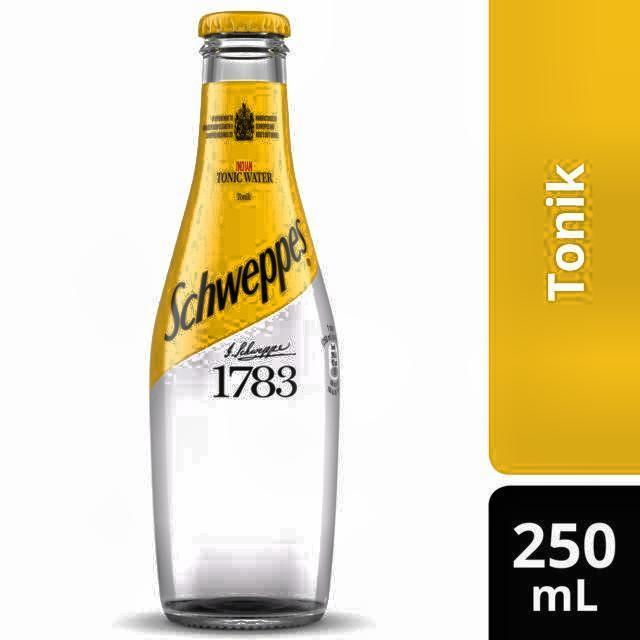glass: (149, 11, 343, 635)
